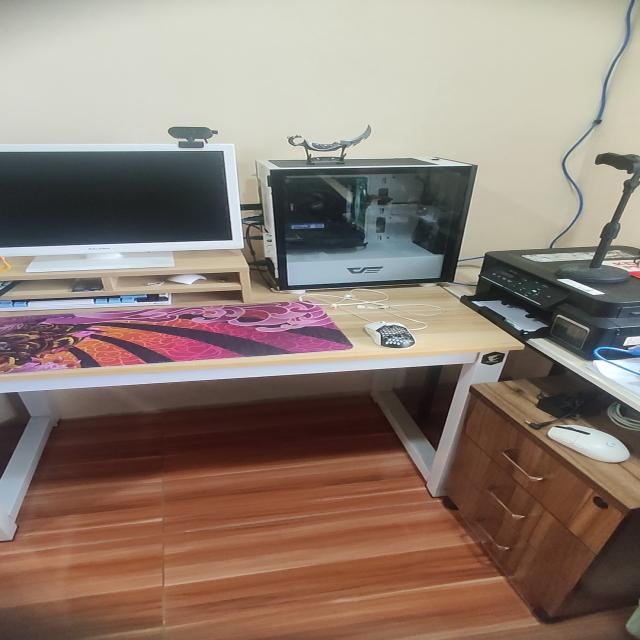table: (0, 273, 526, 545)
